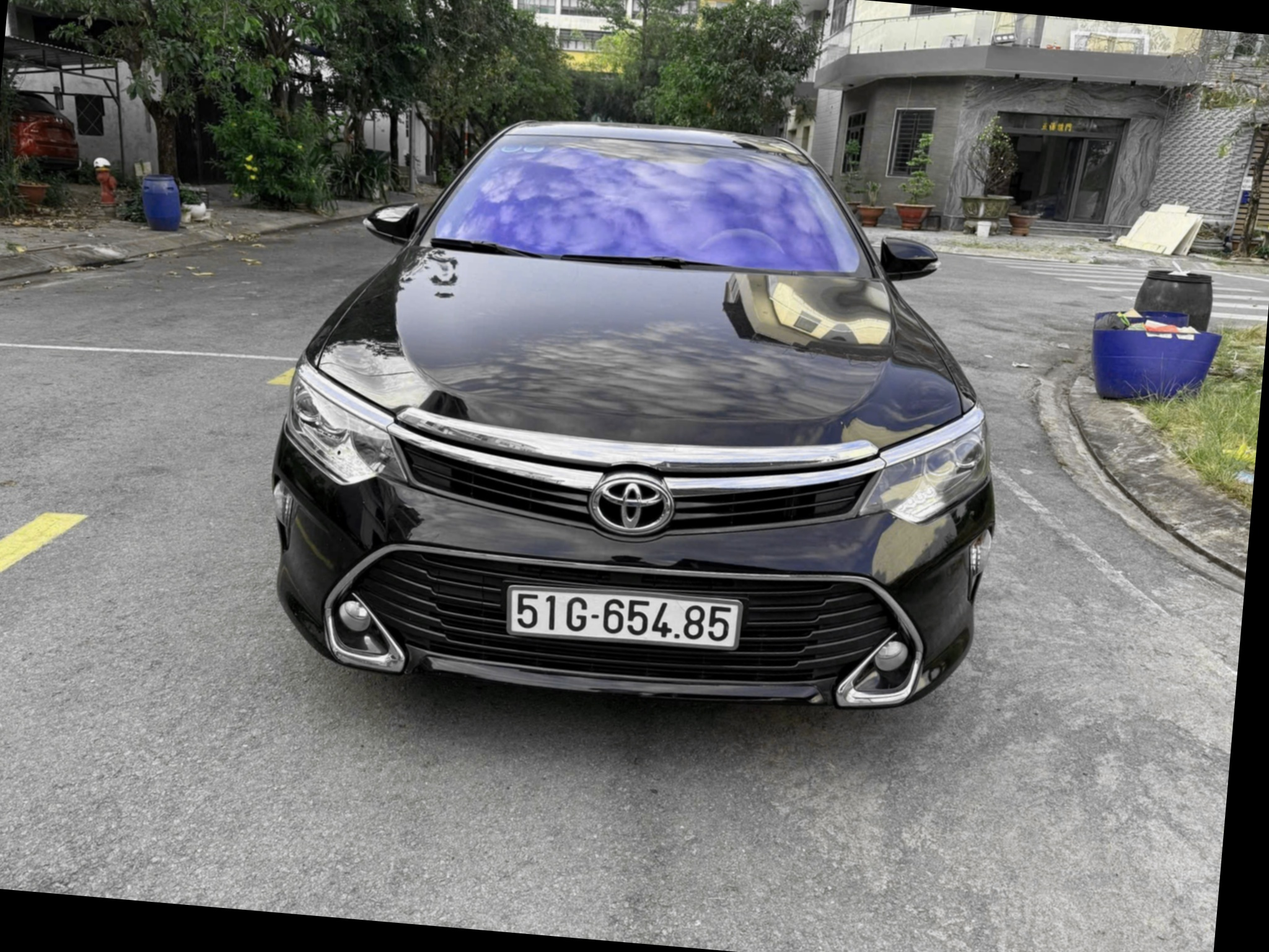Bien-so: (508, 584, 754, 653)
